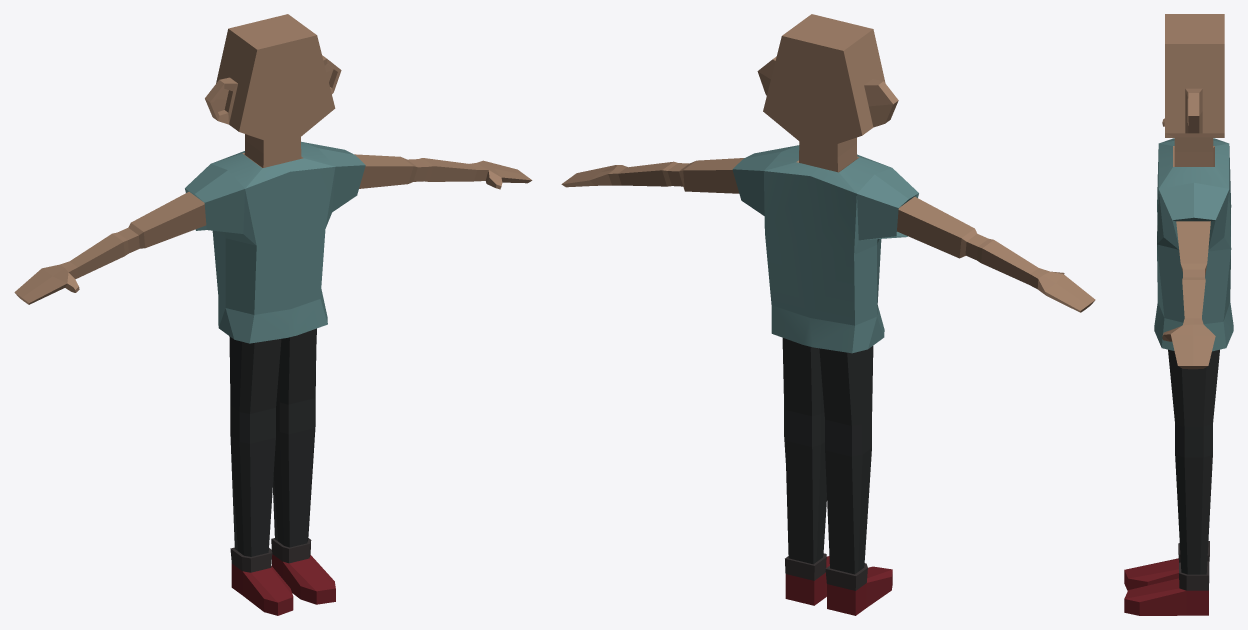
Rendered from BoyColored.fbx.
The picture shows the model from 3 angles, left to right: view 1: azimuth 30°, elevation 25°; view 2: azimuth 150°, elevation 25°; view 3: azimuth 270°, elevation 25°; orthographic projection. The views are drawn at different scales.
Parts seen in each view (by area): view 1: MaleBody; view 2: MaleBody; view 3: MaleBody.
Boxes of the visible parts, x1,y1,x2,y2 form: MaleBody: (14,14,532,615); MaleBody: (561,14,1095,615); MaleBody: (1124,14,1233,615).
Bounding box in the file's own units: 49.75 × 52.17 × 9.08.
